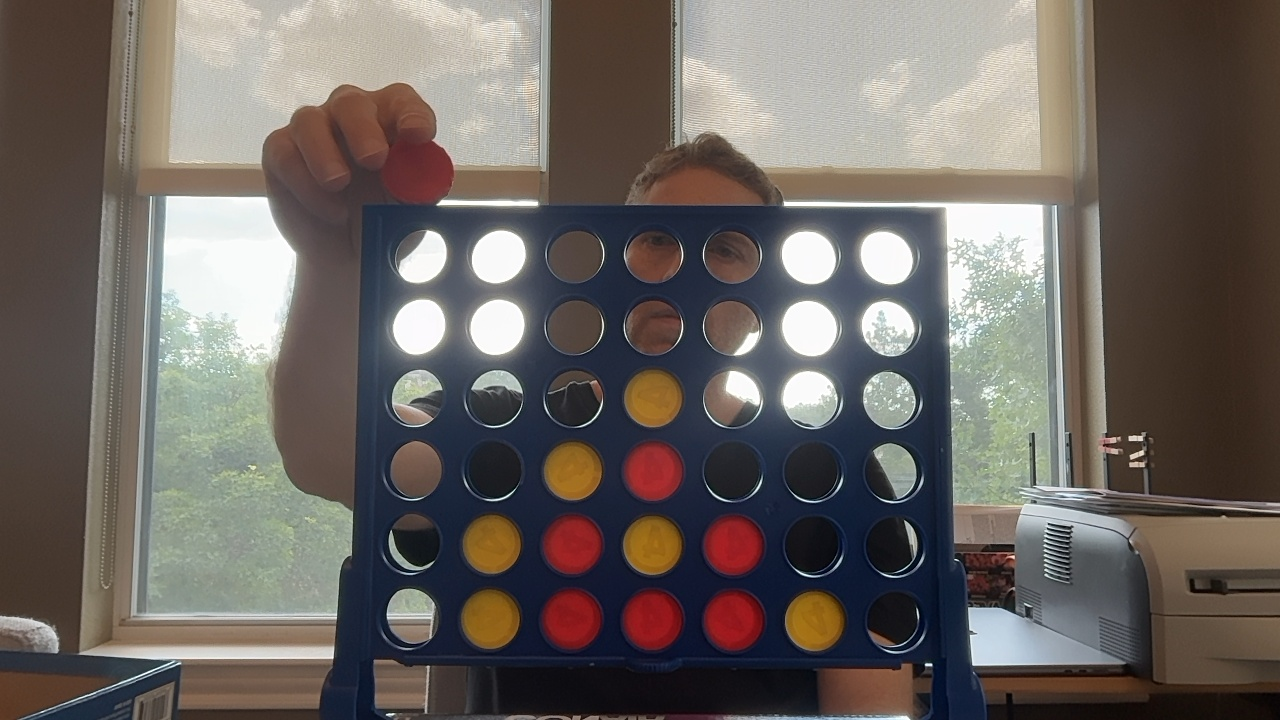red piece: (703, 589, 764, 652), (541, 588, 602, 651), (622, 589, 682, 651), (703, 515, 763, 576), (542, 514, 602, 575), (623, 440, 683, 501)
yellow piece: (460, 588, 520, 649), (785, 590, 845, 651), (622, 515, 682, 575), (462, 514, 521, 574), (544, 441, 602, 500), (624, 368, 682, 427)
